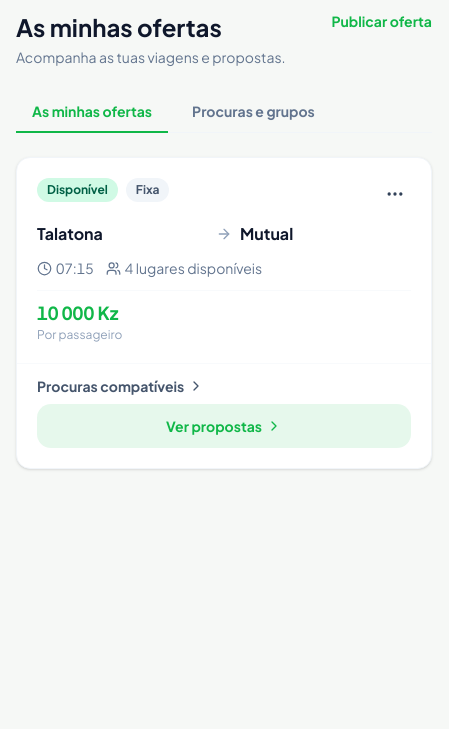
Test: Hub motorista — lista Procuras e grupos usa OpportunityCard › OD real desenha RouteIndicator
Click the tab "Procuras e grupos" at (254, 112), box [176, 91, 331, 133]
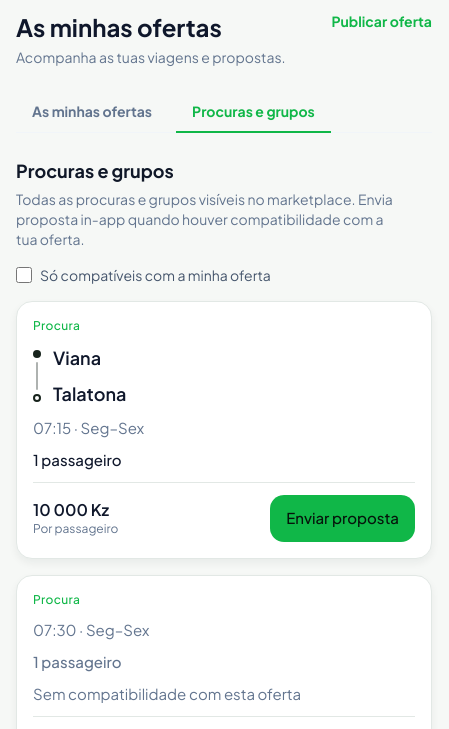
expect the text "Viana" is shown: met, box [53, 346, 101, 369]
expect the element with test id "route-indicator" is shown: met, box [33, 346, 41, 406]
expect the text "Talatona" is shown: met, box [53, 382, 126, 406]
